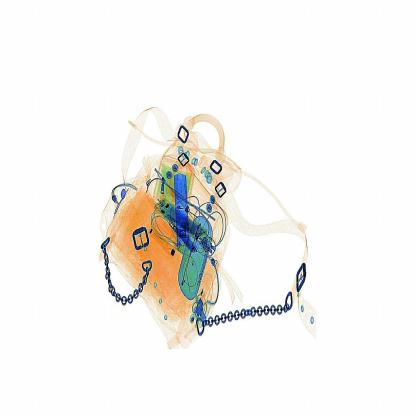pliers: (174, 170, 192, 253)
